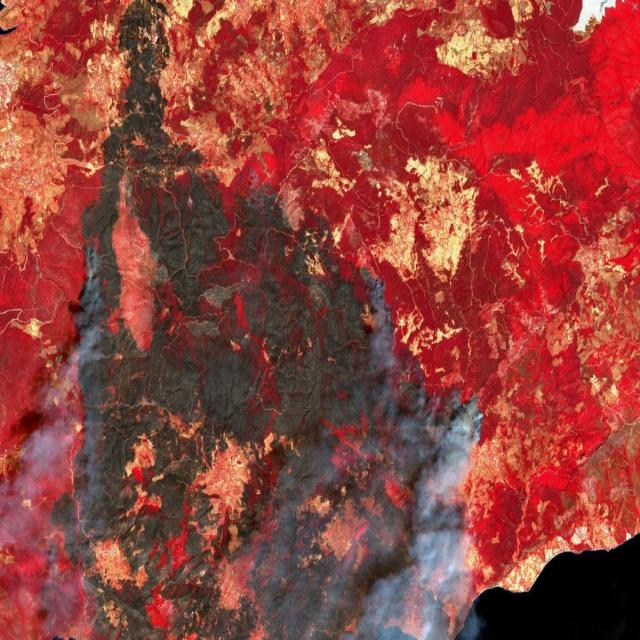fire: (236, 155, 485, 640), (41, 191, 145, 640)
